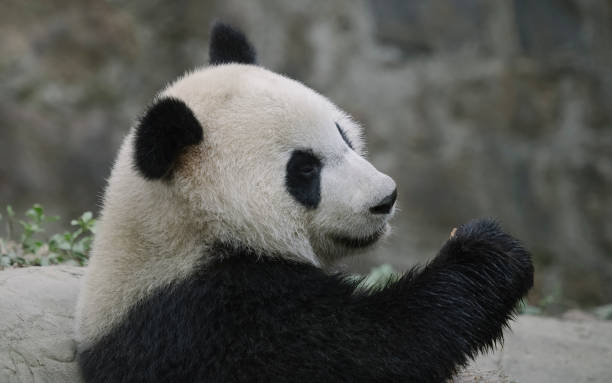panda: (129, 13, 453, 323)
